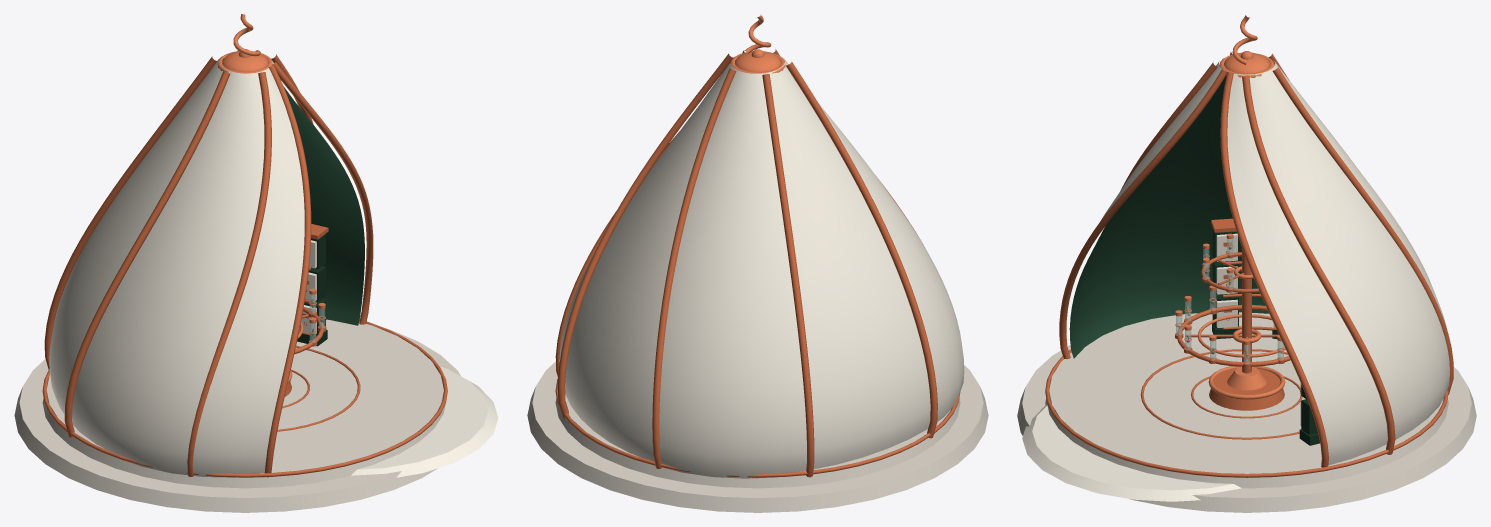
The model's file is seed-vault.glb.
3 renders of one model, left to right at view 1: azimuth 30°, elevation 25°; view 2: azimuth 150°, elevation 25°; view 3: azimuth 270°, elevation 25°, orthographic.
Parts seen in each view (by area): view 1: Mesh_OuterShell, Mesh_PlinthTier, Mesh_PlinthBase, Mesh_InnerShell, Mesh_EntryRamp, Mesh_ShellRib_1, Mesh_ShellRib_0, Mesh_ApertureTrim_Left, Mesh_ShellRib_2, Mesh_PlinthCopperRim, Mesh_ApertureTrim_Right, Mesh_ApexCapDome; view 2: Mesh_OuterShell, Mesh_PlinthBase, Mesh_PlinthTier, Mesh_ShellRib_1, Mesh_ShellRib_2, Mesh_ShellRib_3, Mesh_ShellRib_4, Mesh_PlinthCopperRim, Mesh_ApertureTrim_Right, Mesh_ApexCapDome; view 3: Mesh_OuterShell, Mesh_PlinthTier, Mesh_InnerShell, Mesh_PlinthBase, Mesh_EntryRamp, Mesh_ShellRib_4, Mesh_ApertureTrim_Right, Mesh_ApertureTrim_Left, Mesh_ShellRib_3, Mesh_PlinthCopperRim, Mesh_TurntableBase, Mesh_LowerRing_Outer (+7 smaller).
Boxes of the visible parts, left/top/right/bottom form: Mesh_OuterShell: left=49, top=59, right=304, bottom=477; Mesh_PlinthTier: left=42, top=319, right=445, bottom=488; Mesh_PlinthBase: left=14, top=328, right=460, bottom=512; Mesh_InnerShell: left=283, top=86, right=364, bottom=325; Mesh_EntryRamp: left=351, top=366, right=498, bottom=477; Mesh_ShellRib_1: left=64, top=71, right=230, bottom=437; Mesh_ShellRib_0: left=187, top=72, right=271, bottom=476; Mesh_ApertureTrim_Left: left=264, top=65, right=311, bottom=477; Mesh_ShellRib_2: left=44, top=56, right=216, bottom=369; Mesh_PlinthCopperRim: left=42, top=320, right=447, bottom=477; Mesh_ApertureTrim_Right: left=272, top=61, right=373, bottom=324; Mesh_ApexCapDome: left=222, top=51, right=268, bottom=71; Mesh_OuterShell: left=559, top=58, right=964, bottom=478; Mesh_PlinthBase: left=527, top=361, right=988, bottom=512; Mesh_PlinthTier: left=555, top=395, right=960, bottom=488; Mesh_ShellRib_1: left=786, top=61, right=937, bottom=438; Mesh_ShellRib_2: left=762, top=74, right=814, bottom=477; Mesh_ShellRib_3: left=652, top=68, right=736, bottom=468; Mesh_ShellRib_4: left=557, top=53, right=732, bottom=418; Mesh_PlinthCopperRim: left=555, top=378, right=960, bottom=477; Mesh_ApertureTrim_Right: left=555, top=50, right=744, bottom=377; Mesh_ApexCapDome: left=735, top=51, right=780, bottom=72; Mesh_OuterShell: left=1101, top=61, right=1449, bottom=465; Mesh_PlinthTier: left=1045, top=312, right=1448, bottom=488; Mesh_InnerShell: left=1069, top=75, right=1268, bottom=358; Mesh_PlinthBase: left=1017, top=345, right=1476, bottom=512; Mesh_EntryRamp: left=1022, top=405, right=1241, bottom=501; Mesh_ShellRib_4: left=1242, top=76, right=1395, bottom=454; Mesh_ApertureTrim_Right: left=1220, top=72, right=1328, bottom=467; Mesh_ApertureTrim_Left: left=1059, top=69, right=1226, bottom=358; Mesh_ShellRib_3: left=1272, top=67, right=1453, bottom=394; Mesh_PlinthCopperRim: left=1045, top=349, right=1448, bottom=477; Mesh_TurntableBase: left=1209, top=368, right=1284, bottom=410; Mesh_LowerRing_Outer: left=1177, top=305, right=1290, bottom=366.
Size of the model in its own units: 4.6 by 4.42 by 4.6.
